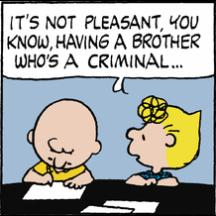charlie: (19, 97, 105, 191)
